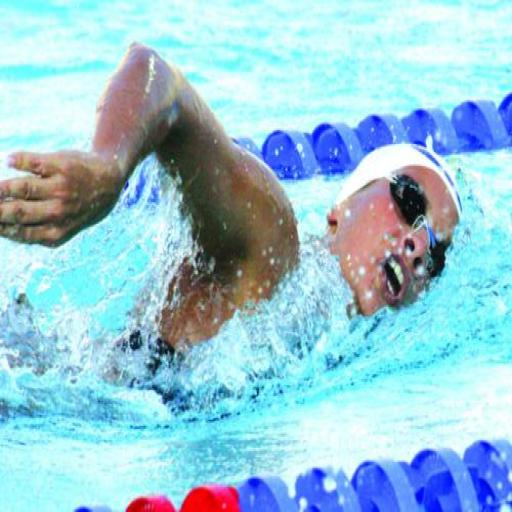swimming: (0, 39, 464, 418)
